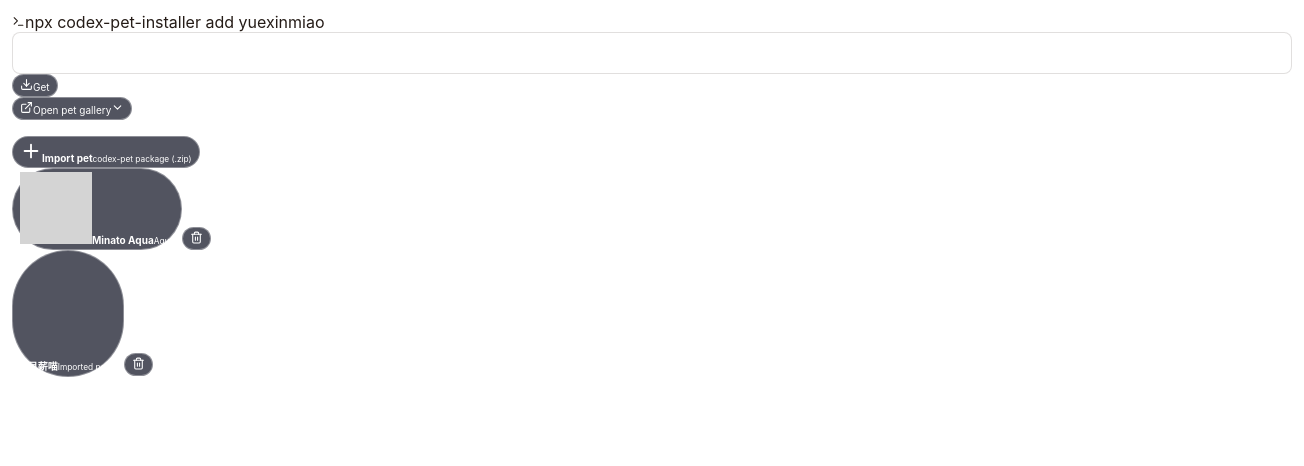
Test: PetThemeGrid install command › names a known-but-unsupported installer explicitly
Type "npx petdex install boba" into the field named "Install command".
click(652, 53); type("npx petdex install boba")  # box x1=12 y1=32 x2=1292 y2=74
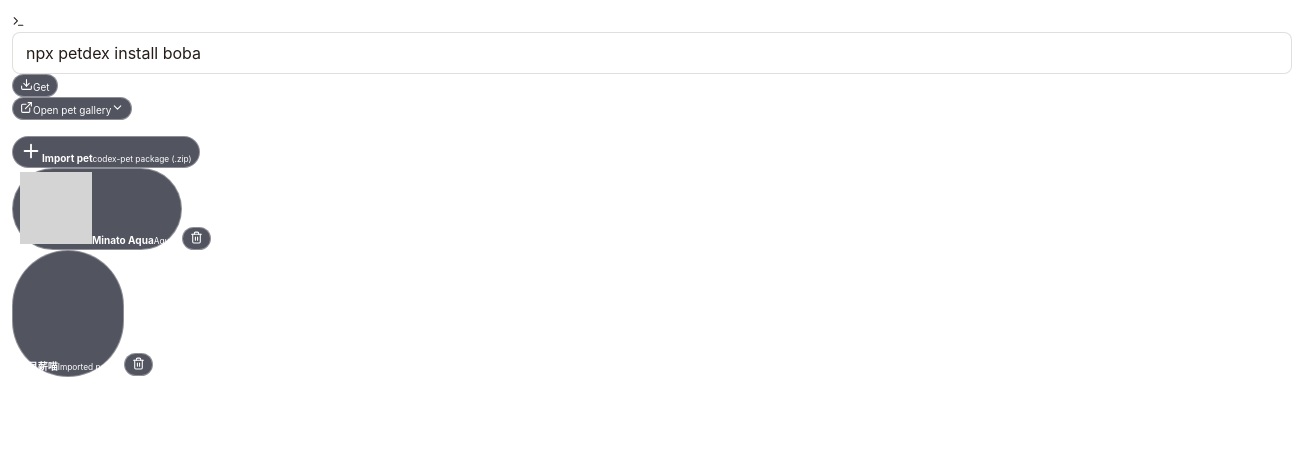
Click the button "Get".
click(35, 86)  # box x1=12 y1=74 x2=58 y2=97
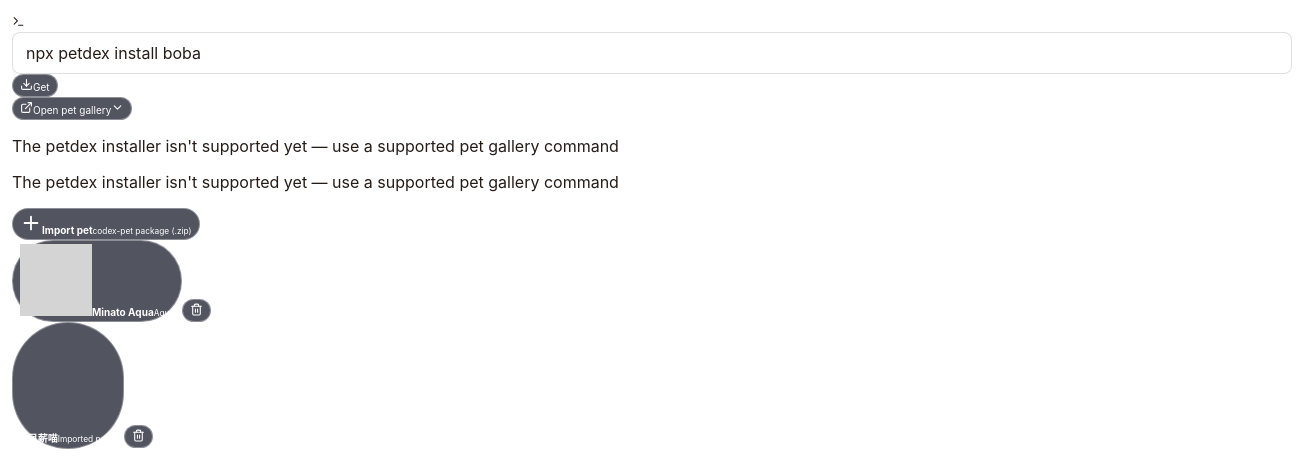
Result: the text "The petdex installer isn't supported yet" is shown at x1=12 y1=172 x2=619 y2=192
